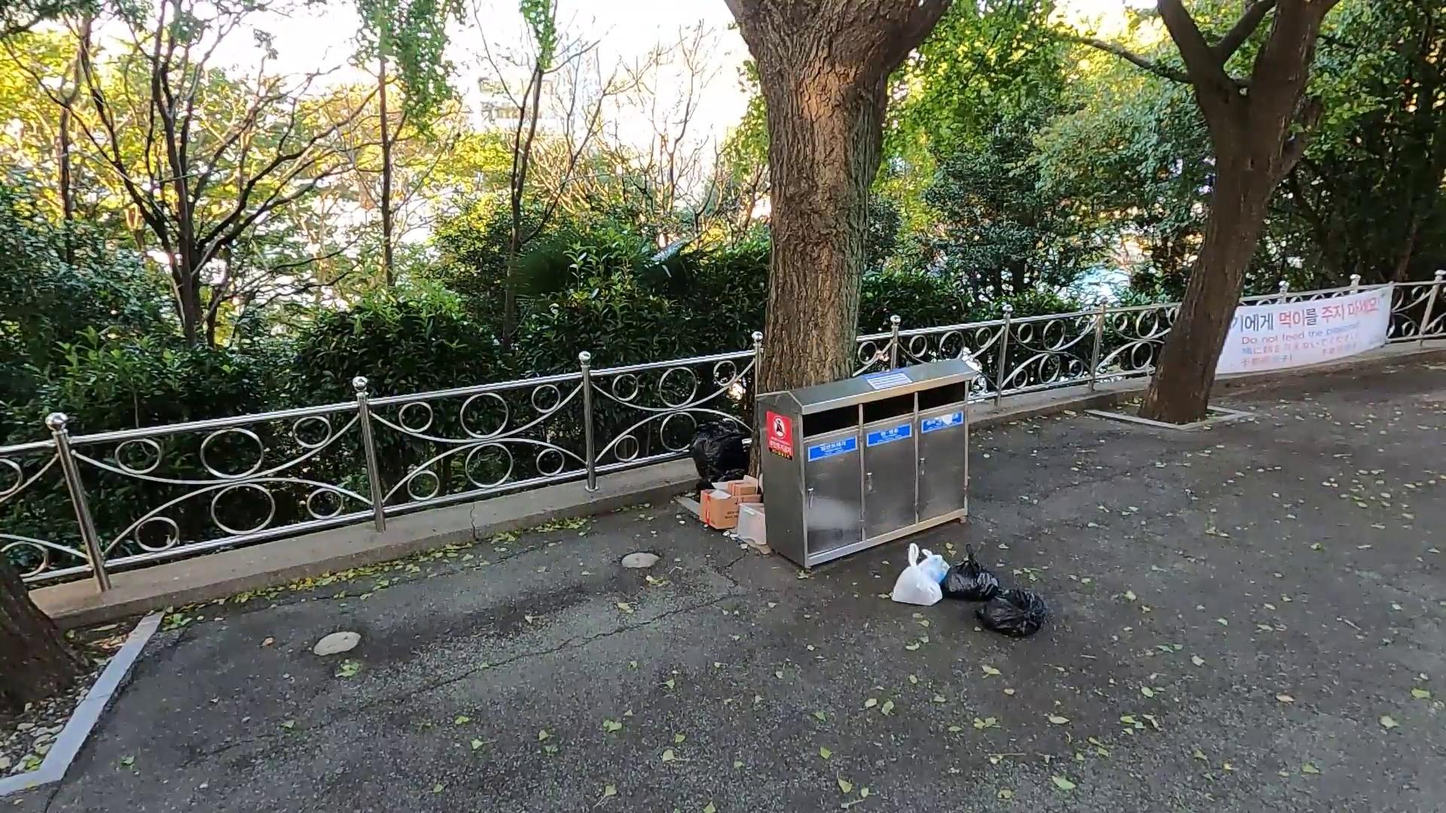trash: (689, 412, 753, 514), (973, 568, 1048, 642), (687, 476, 769, 536), (932, 540, 1007, 601), (712, 493, 765, 552), (891, 542, 940, 605), (905, 547, 949, 596), (708, 467, 760, 499)
